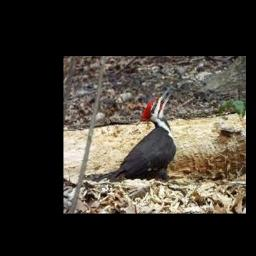Woodpecker: (92, 88, 177, 182)
